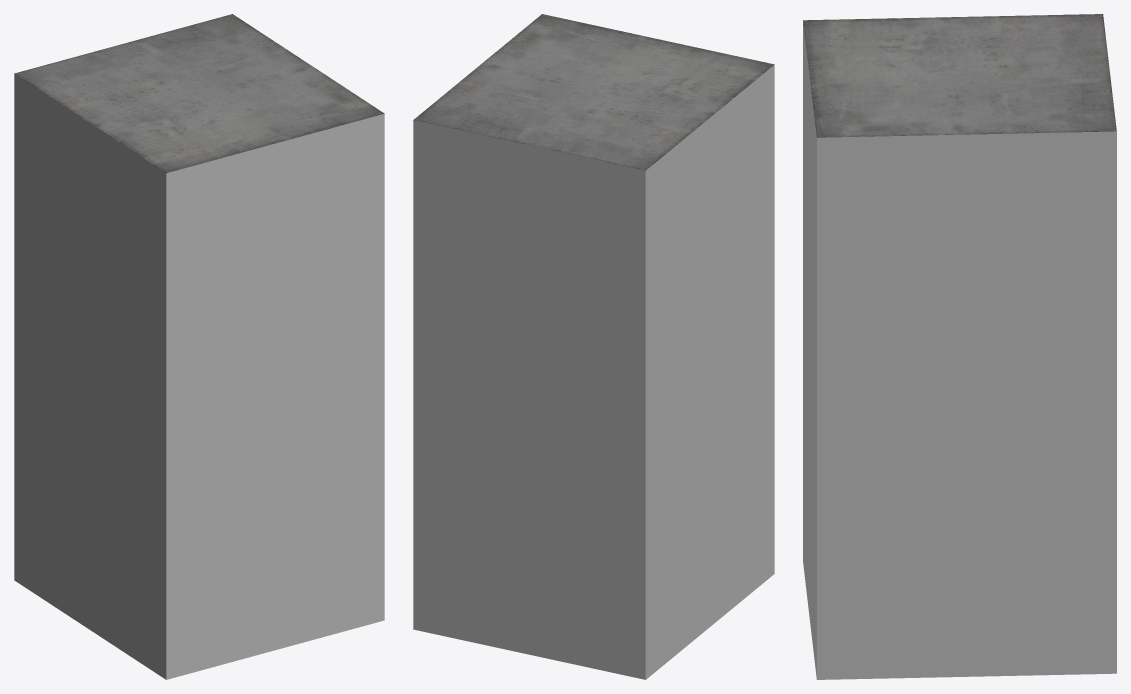
3 renders of one model, left to right at view 1: azimuth 30°, elevation 25°; view 2: azimuth 150°, elevation 25°; view 3: azimuth 270°, elevation 25°, orthographic. The views are drawn at different scales.
Parts seen in each view (by area): view 1: Cube.072; view 2: Cube.072; view 3: Cube.072.
Boxes of the visible parts, x1=… form: Cube.072: x1=14, y1=14, x2=384, y2=679; Cube.072: x1=413, y1=14, x2=774, y2=679; Cube.072: x1=803, y1=14, x2=1116, y2=679.
Bounding box in the file's own units: 99.16 × 203 × 106.
